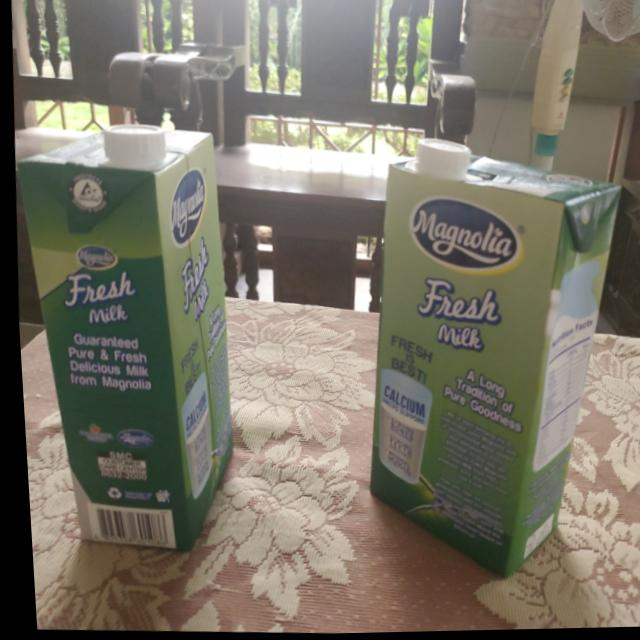milk: (341, 136, 639, 583), (6, 116, 244, 543)
